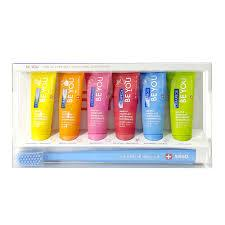toothpaste: (23, 70, 59, 145), (168, 74, 197, 144), (113, 72, 141, 142), (56, 72, 83, 141), (85, 72, 111, 143), (141, 70, 167, 140)
